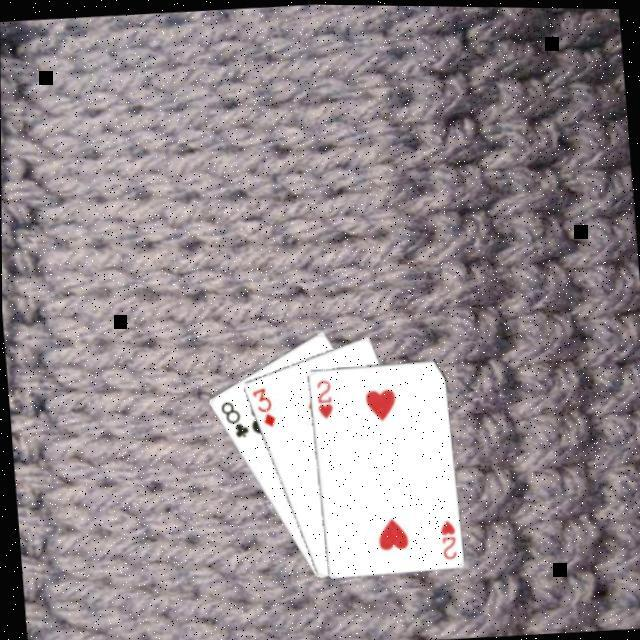2H: (432, 516, 456, 562), (310, 376, 332, 422)
3D: (246, 384, 274, 432)
8C: (214, 397, 248, 443)
